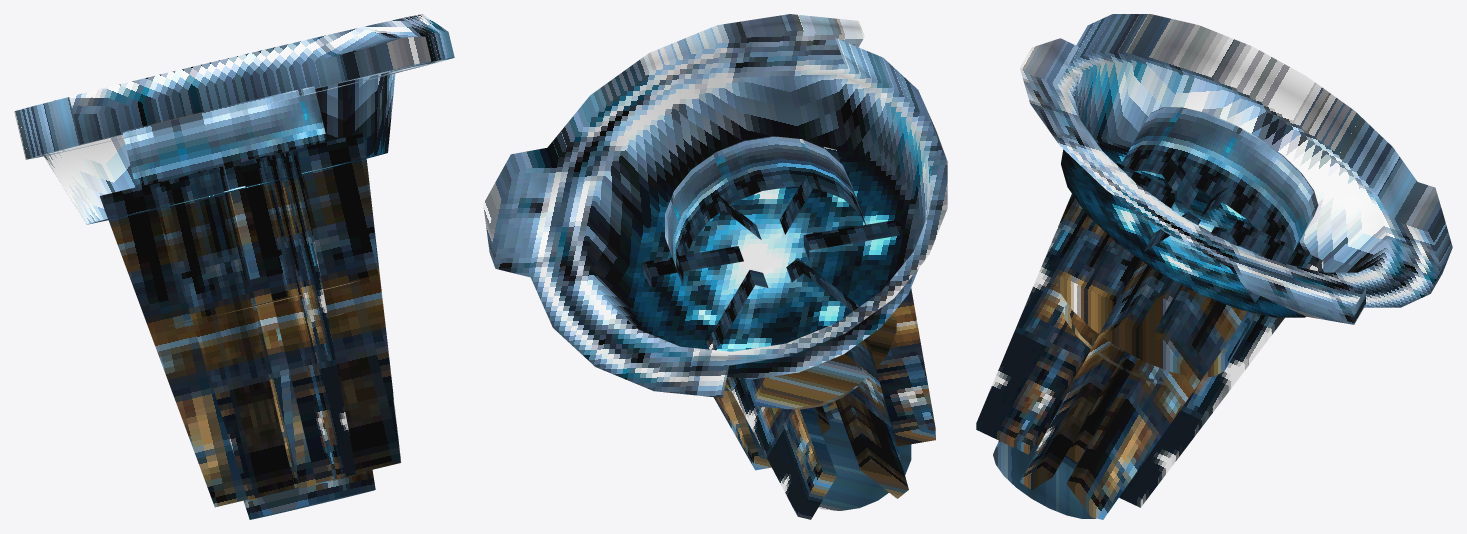
The model's file is ps2_save-icons_raonethegame.glb.
3 views of the same model, side by side, from view 1: azimuth 30°, elevation 25°; view 2: azimuth 150°, elevation 25°; view 3: azimuth 270°, elevation 25° (orthographic). The views are drawn at different scales.
Parts seen in each view (by area): view 1: default.ico; view 2: default.ico; view 3: default.ico.
Part boxes in pixels (box(x1,y1,x2,y2)): default.ico: box(14, 14, 454, 519); default.ico: box(483, 14, 947, 519); default.ico: box(976, 14, 1452, 519).
Bounding box in the file's own units: 4.08 × 4.54 × 4.17.
1 material, 1 textured.
